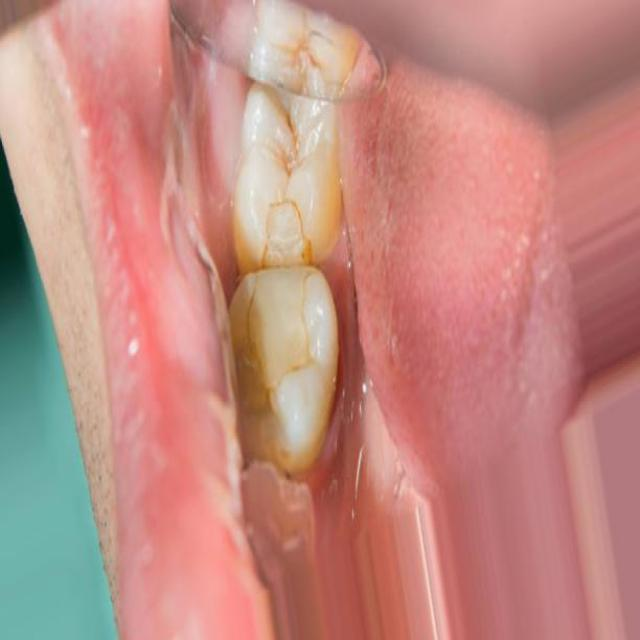caries: (250, 195, 316, 407)
